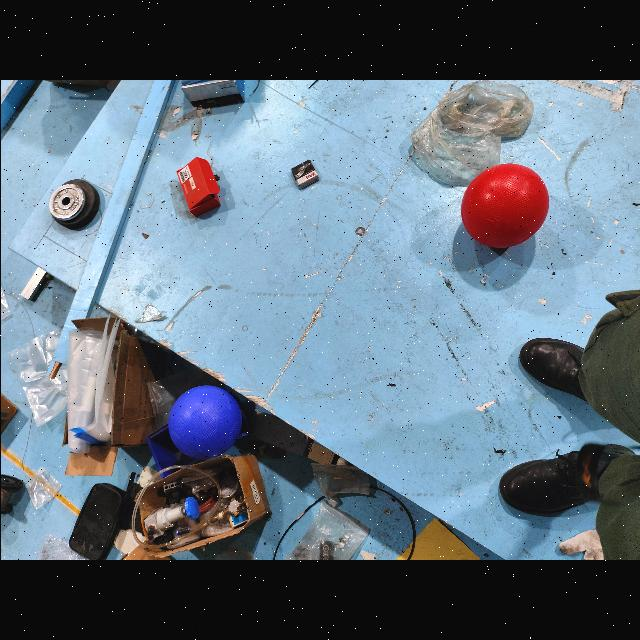B: (165, 384, 242, 461)
R: (459, 162, 547, 250)
